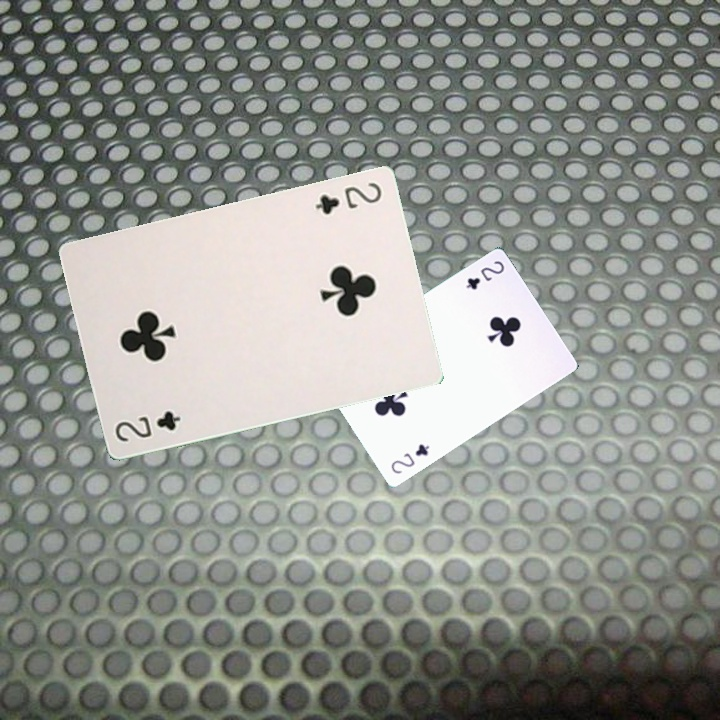2c: (311, 178, 384, 217), (111, 406, 184, 445), (461, 256, 507, 292), (387, 440, 432, 476)
